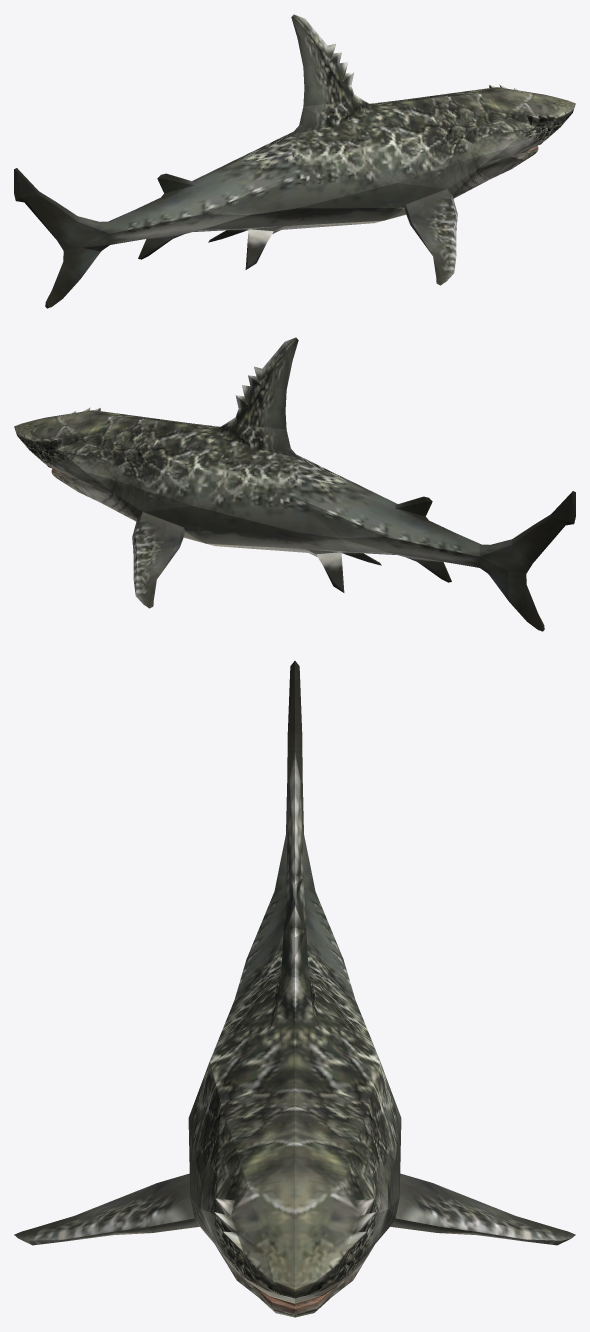
File: Fish4.glb
The picture shows the model from 3 angles, top to bottom: view 1: azimuth 30°, elevation 25°; view 2: azimuth 150°, elevation 25°; view 3: azimuth 270°, elevation 25°; orthographic projection. The views are drawn at different scales.
Visible parts, largest first — view 1: m032_BM_01_Mesh; view 2: m032_BM_01_Mesh; view 3: m032_BM_01_Mesh.
Boxes of the visible parts, <box> form: m032_BM_01_Mesh: <box>14,14,575,308</box>; m032_BM_01_Mesh: <box>14,337,575,631</box>; m032_BM_01_Mesh: <box>14,661,575,1317</box>.
Size of the model in its own units: 5.97 by 2.38 by 2.84.
Materials: 1 (1 with a texture image).
